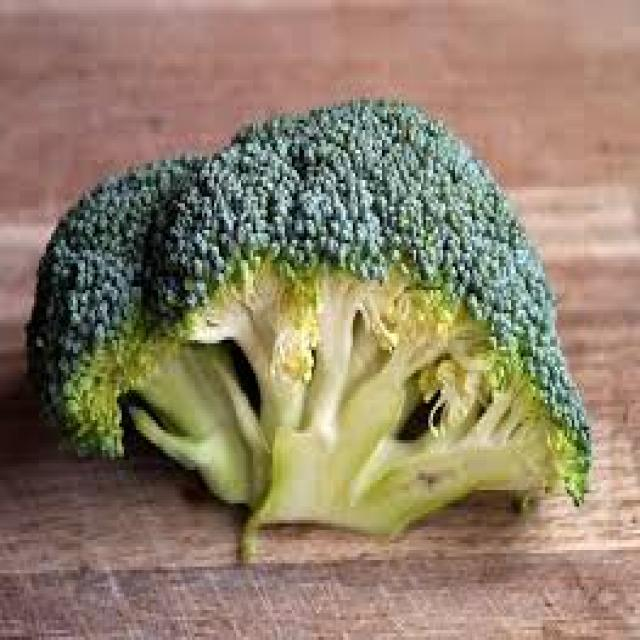organic waste: (22, 94, 591, 564)
